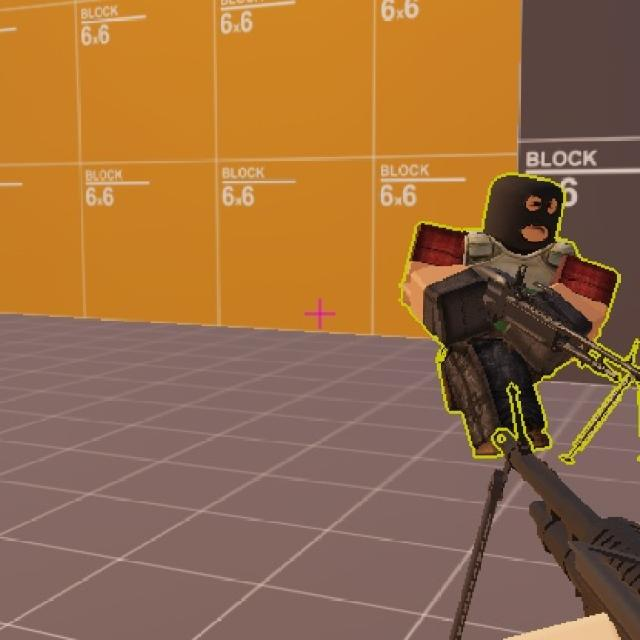player: (424, 169, 587, 476)
